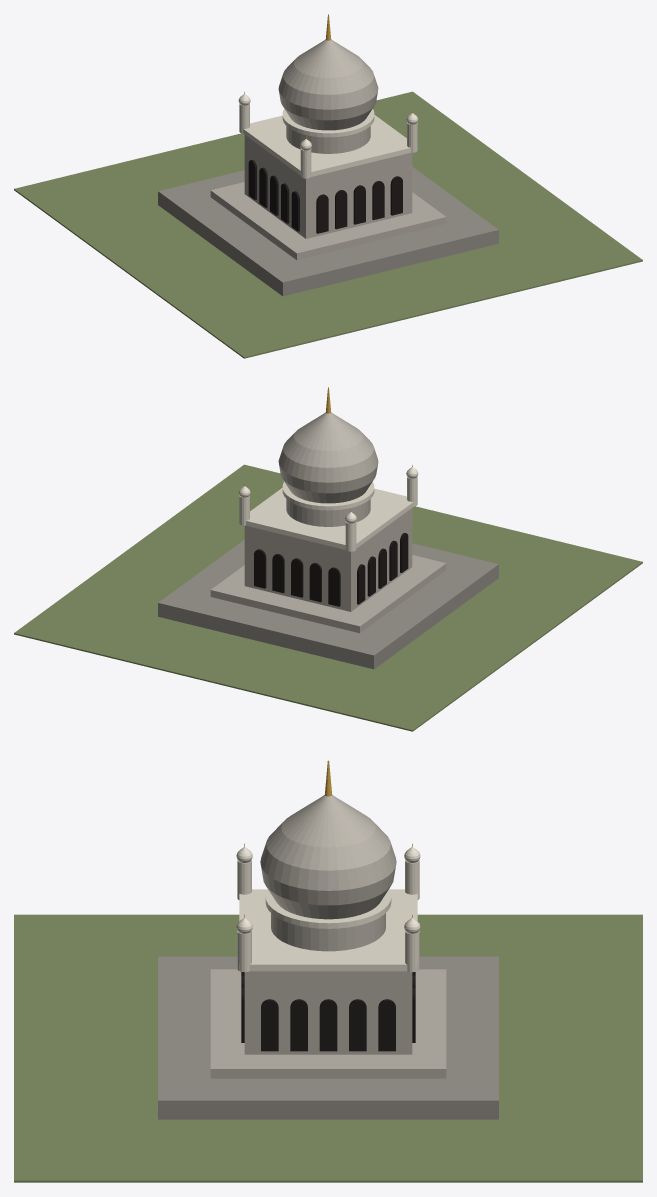
The model's file is qutb-shahi-tombs.glb.
3 renders of one model, top to bottom at view 1: azimuth 30°, elevation 25°; view 2: azimuth 150°, elevation 25°; view 3: azimuth 270°, elevation 25°, orthographic. The views are drawn at different scales.
Parts seen in each view (by area): view 1: grass, granite_l, granite, stucco, void; view 2: grass, granite_l, granite, stucco, void; view 3: grass, granite_l, granite, stucco, void.
Part boxes in pixels (left/top/right/bottom): grass: left=14, top=91, right=642, bottom=358; granite_l: left=210, top=39, right=446, bottom=260; granite: left=158, top=167, right=498, bottom=296; stucco: left=238, top=94, right=418, bottom=178; void: left=248, top=160, right=402, bottom=233; grass: left=14, top=464, right=642, bottom=731; granite_l: left=210, top=412, right=446, bottom=633; granite: left=158, top=540, right=498, bottom=669; stucco: left=238, top=467, right=418, bottom=551; void: left=254, top=533, right=408, bottom=606; grass: left=14, top=914, right=642, bottom=1182; granite_l: left=210, top=795, right=446, bottom=1078; granite: left=158, top=956, right=498, bottom=1119; stucco: left=236, top=847, right=420, bottom=972; void: left=241, top=972, right=415, bottom=1051.
Bounding box in the file's own units: 120 × 60.8 × 120.
